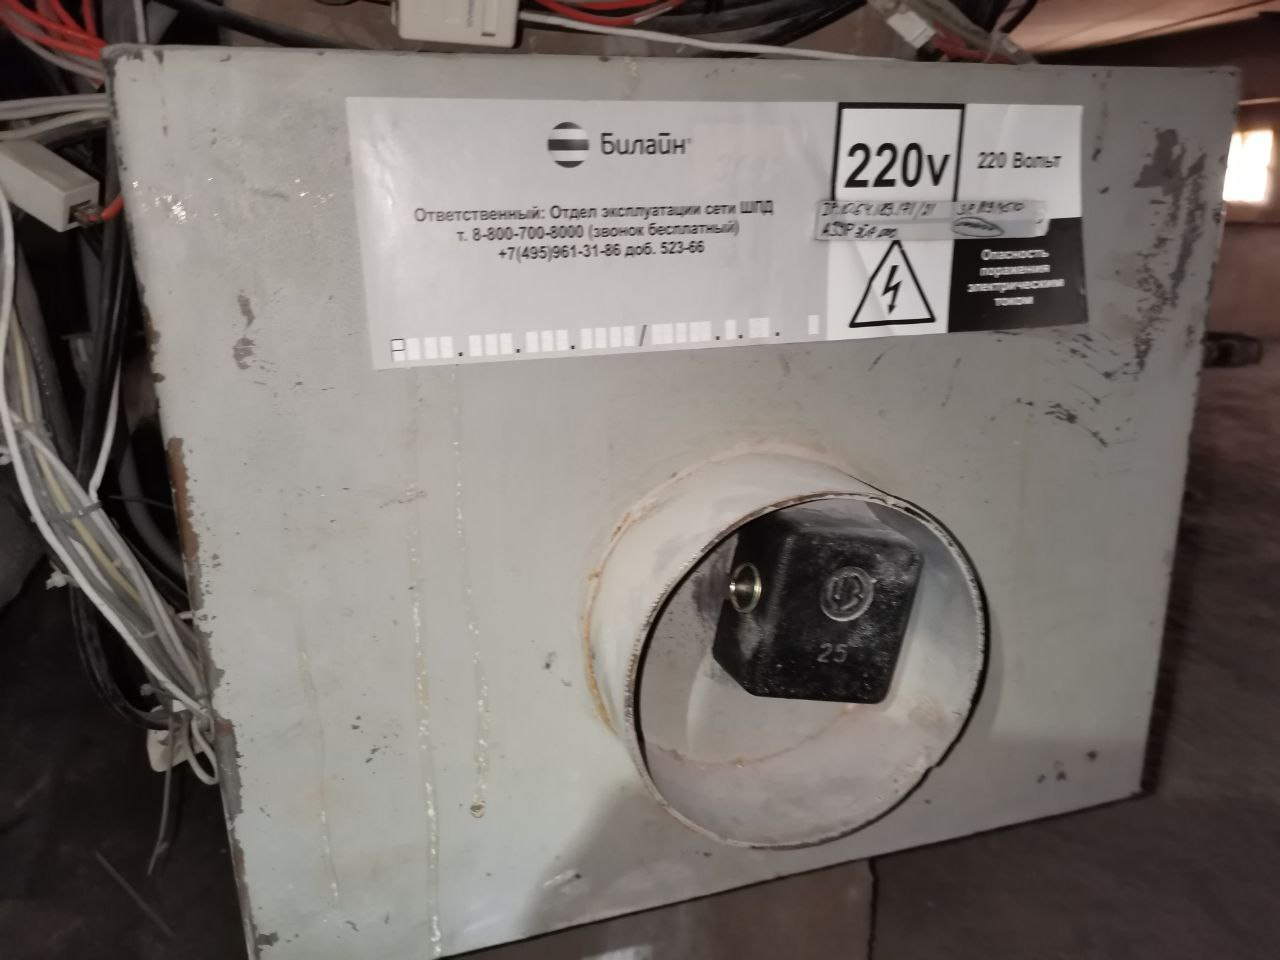shta-3: (95, 45, 1248, 952)
